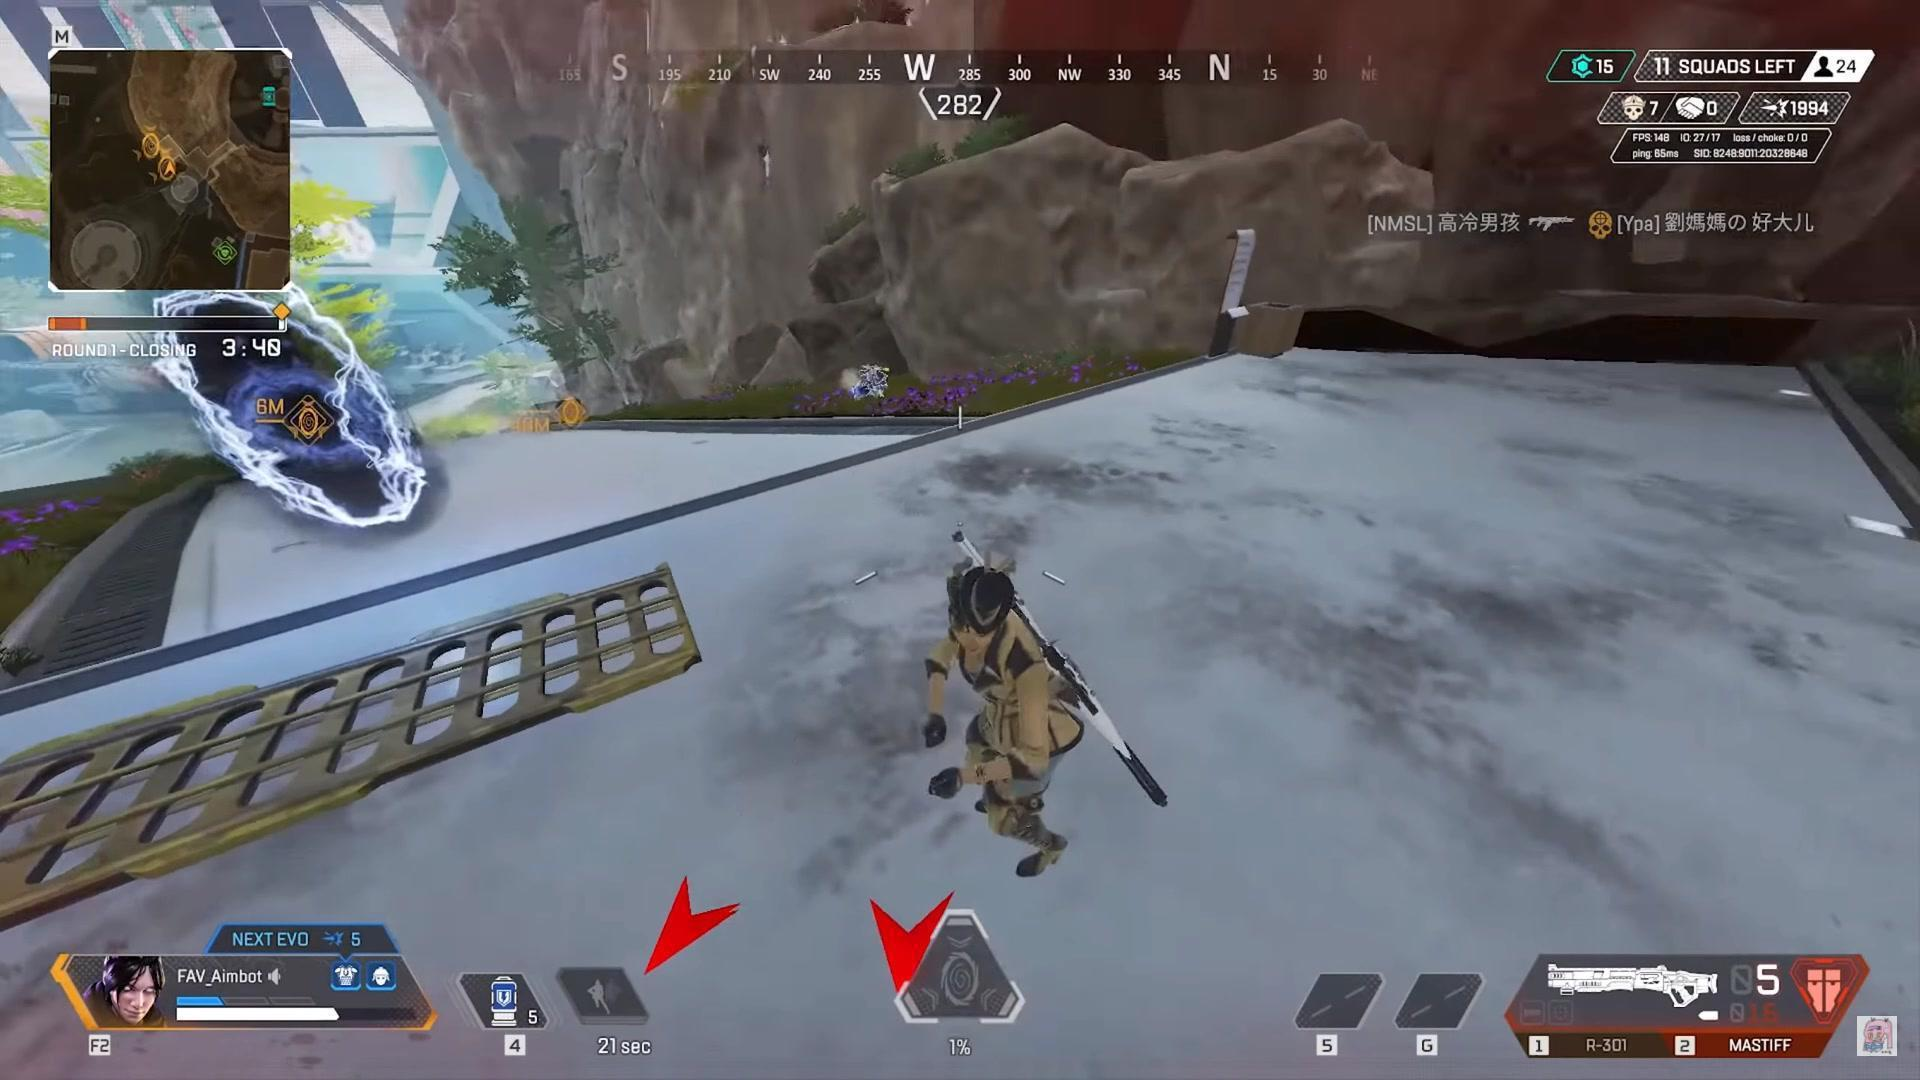avatar: (918, 558, 1090, 883)
